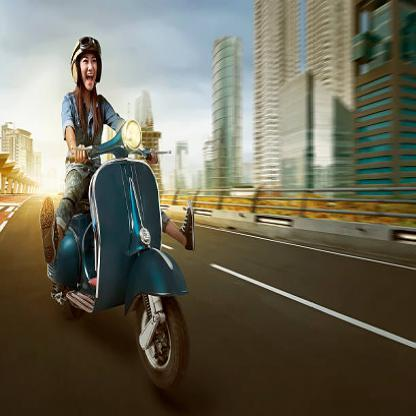Motorcycle: (29, 115, 203, 393)
